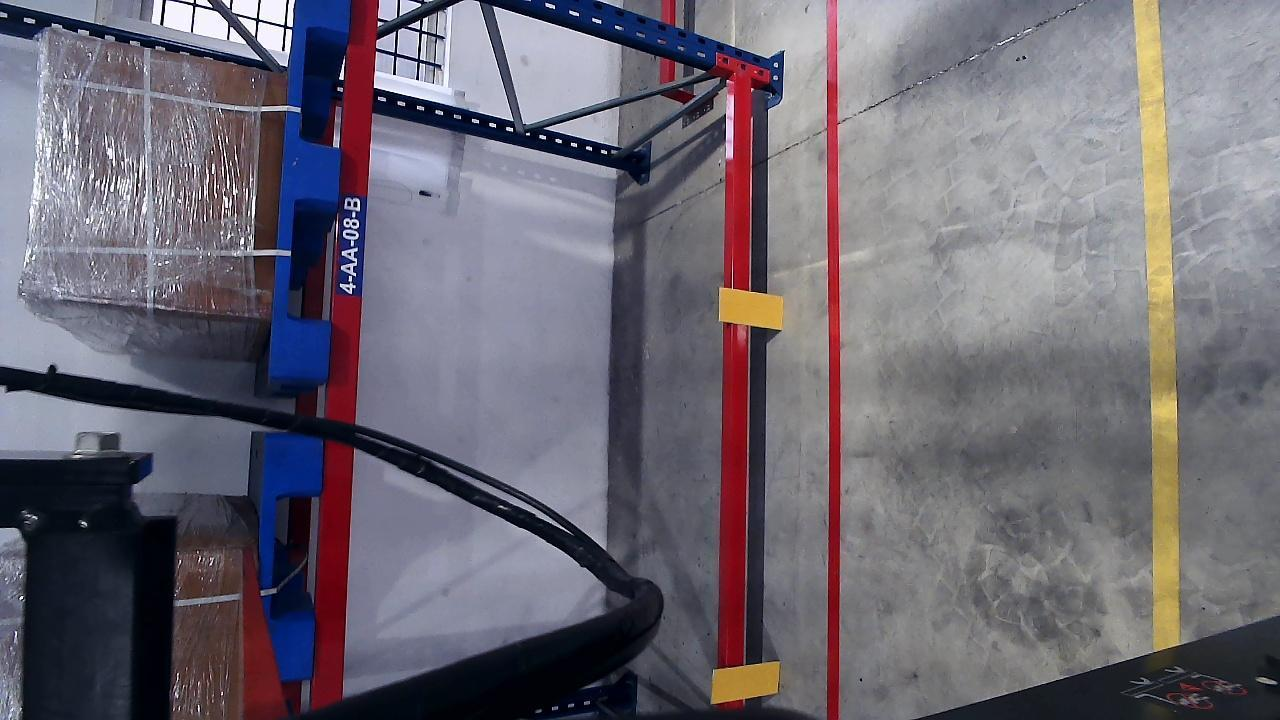red_line: (824, 14, 842, 720)
yellow_line: (1126, 0, 1181, 657)
